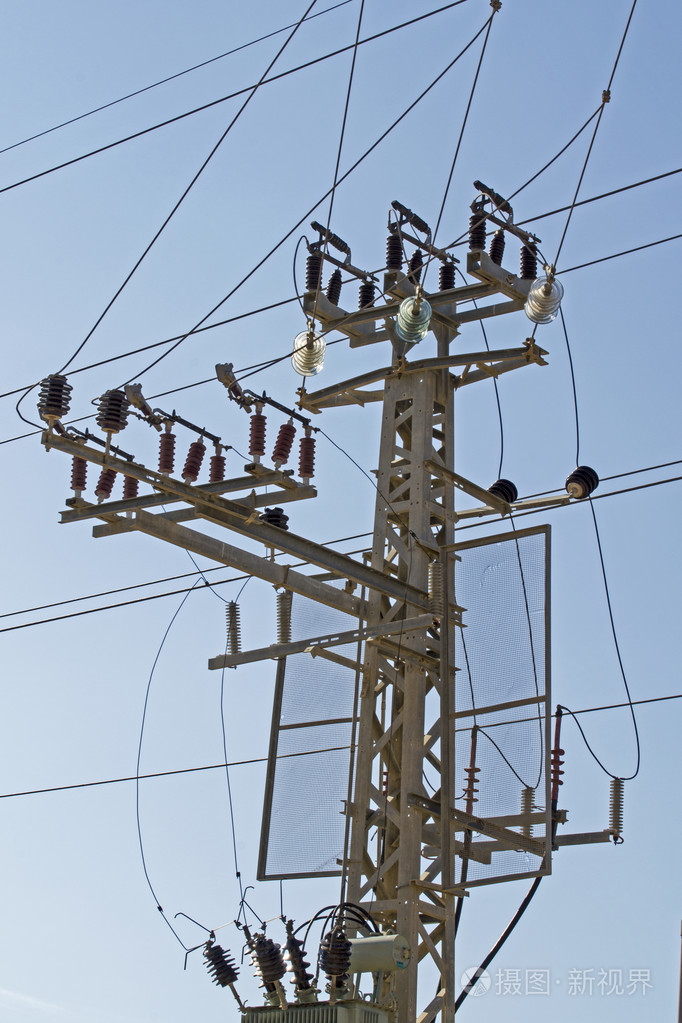insulator: (393, 295, 434, 346), (528, 274, 563, 324), (293, 330, 328, 378)
